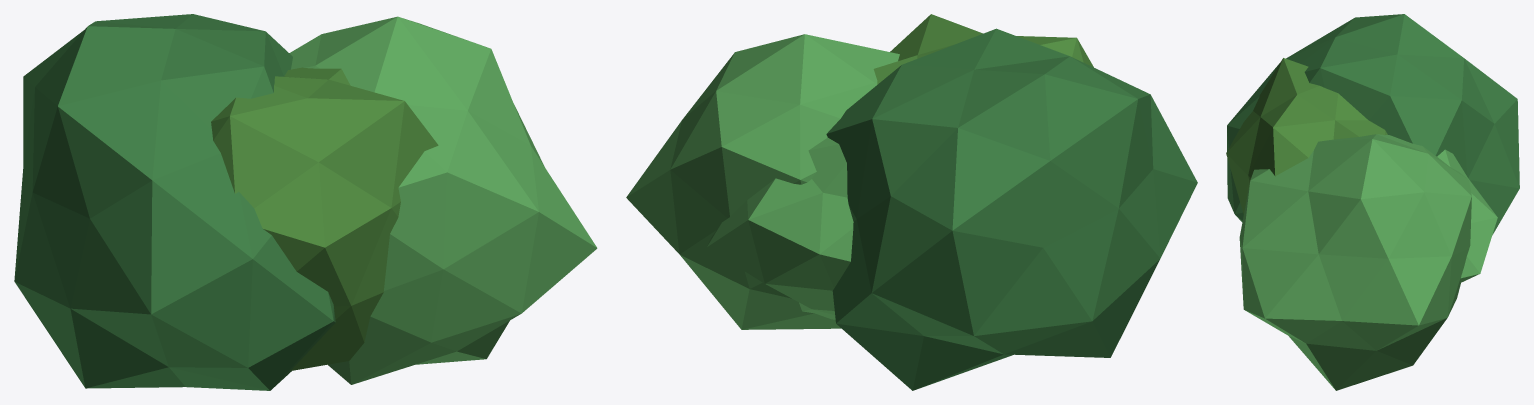
File: bush-a.glb
The picture shows the model from 3 angles, left to right: view 1: azimuth 30°, elevation 25°; view 2: azimuth 150°, elevation 25°; view 3: azimuth 270°, elevation 25°; orthographic projection. The views are drawn at different scales.
Visible parts, largest first — view 1: bush; view 2: bush; view 3: bush.
Boxes of the visible parts, x1,y1,x2,y2 form: bush: [14, 14, 597, 390]; bush: [626, 14, 1197, 390]; bush: [1226, 14, 1519, 390].
Bounding box in the file's own units: 2.07 × 1.45 × 1.48.
